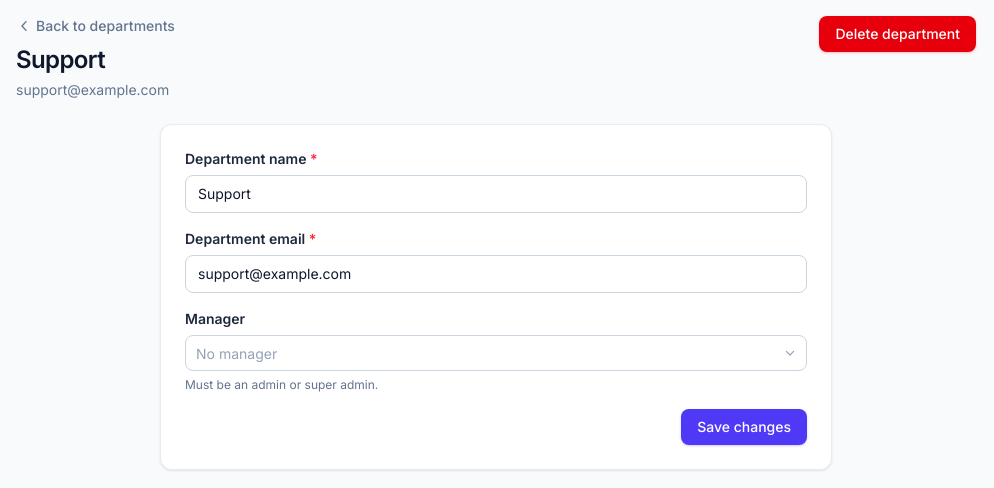
Test: DepartmentDetailsPage › only offers admins and super admins as manager options
Click the dropdown labelled "Manager".
click(198, 353)  # box [196, 342, 200, 364]
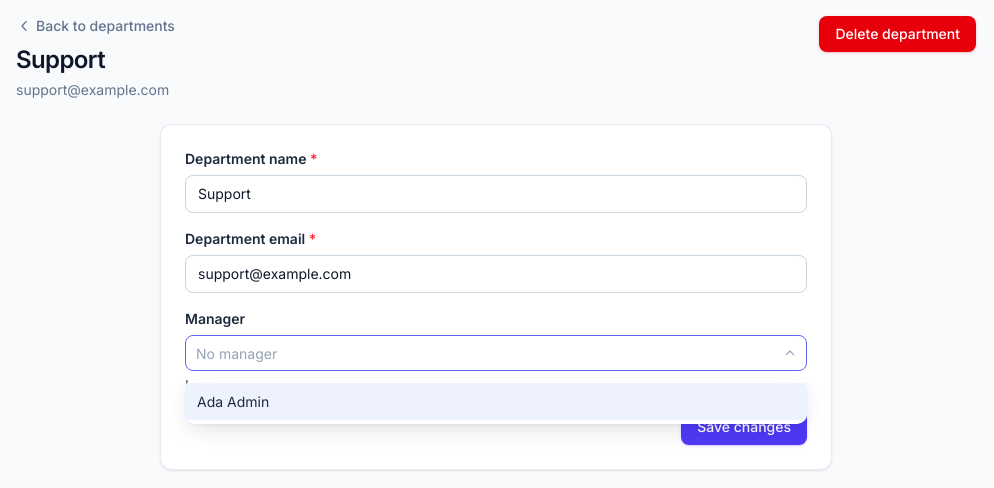
Now the option "Ada Admin" is shown, box [185, 383, 807, 420]
